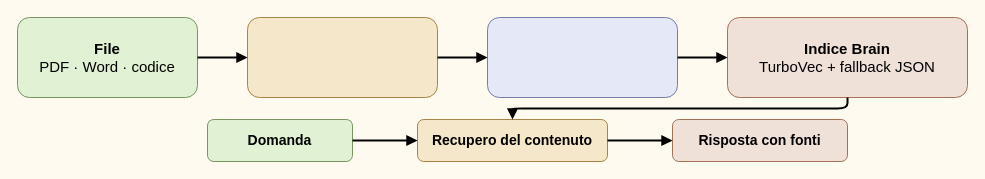
Image size: 985x179. Some labels were removed from this diagram. The shapes that lost their labels are listed below. From the top down, each one's centre as x and y in pixels, then its label:
At (342,57): "Testo e chunk estrazione ordinata".
At (582,57): "Embedding nomic-embed-text".
